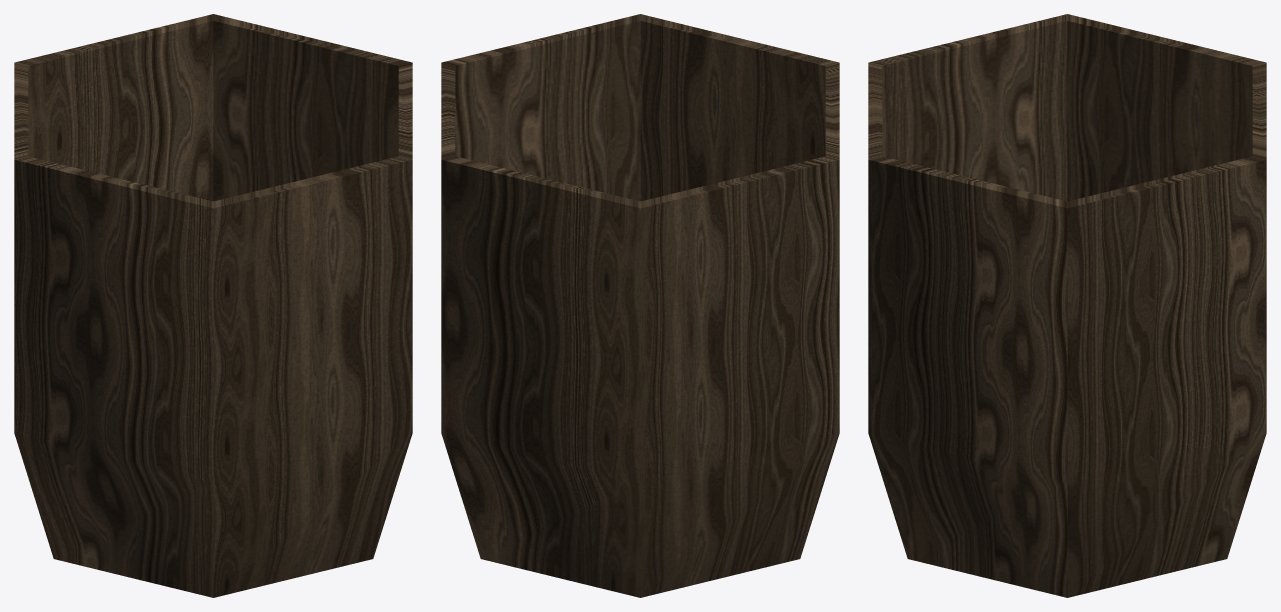
The model's file is wood_prop2_LOD2.FBX.
The picture shows the model from 3 angles, left to right: view 1: azimuth 30°, elevation 25°; view 2: azimuth 150°, elevation 25°; view 3: azimuth 270°, elevation 25°; orthographic projection.
Parts seen in each view (by area): view 1: wood_prop2_LO2; view 2: wood_prop2_LO2; view 3: wood_prop2_LO2.
Boxes of the visible parts, <box> form: wood_prop2_LO2: <box>14,14,412,597</box>; wood_prop2_LO2: <box>441,14,839,597</box>; wood_prop2_LO2: <box>868,14,1266,597</box>.
Bounding box in the file's own units: 46.89 × 45.98 × 40.61.
